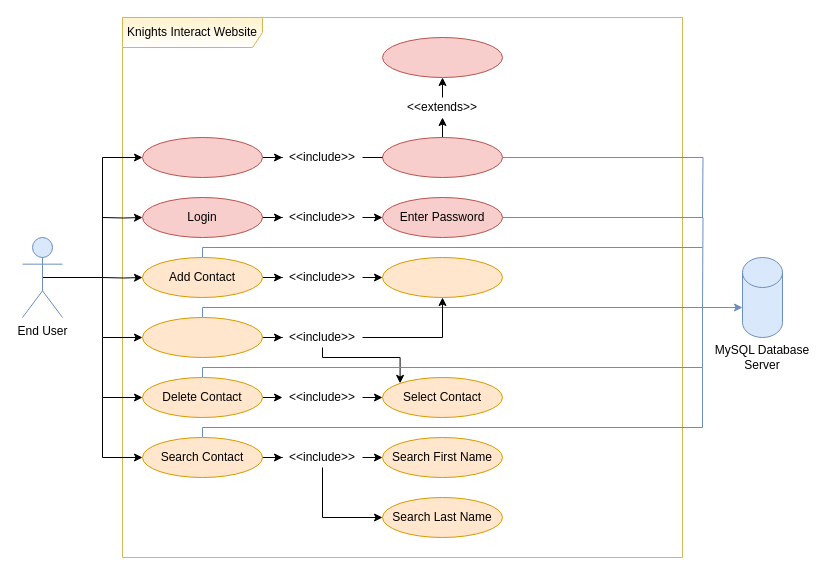
Some shapes in this 839 by 575 pixel diagram are drawn without their labels. The shapes that lost their labels are listed below. From the top down, each one's centre as x and y in pixels, then its label:
At (442,57): "Username Taken".
At (202,157): "Register".
At (442,157): "Enter User Info".
At (442,277): "Enter Contact Info".
At (202,337): "Edit Contact".
